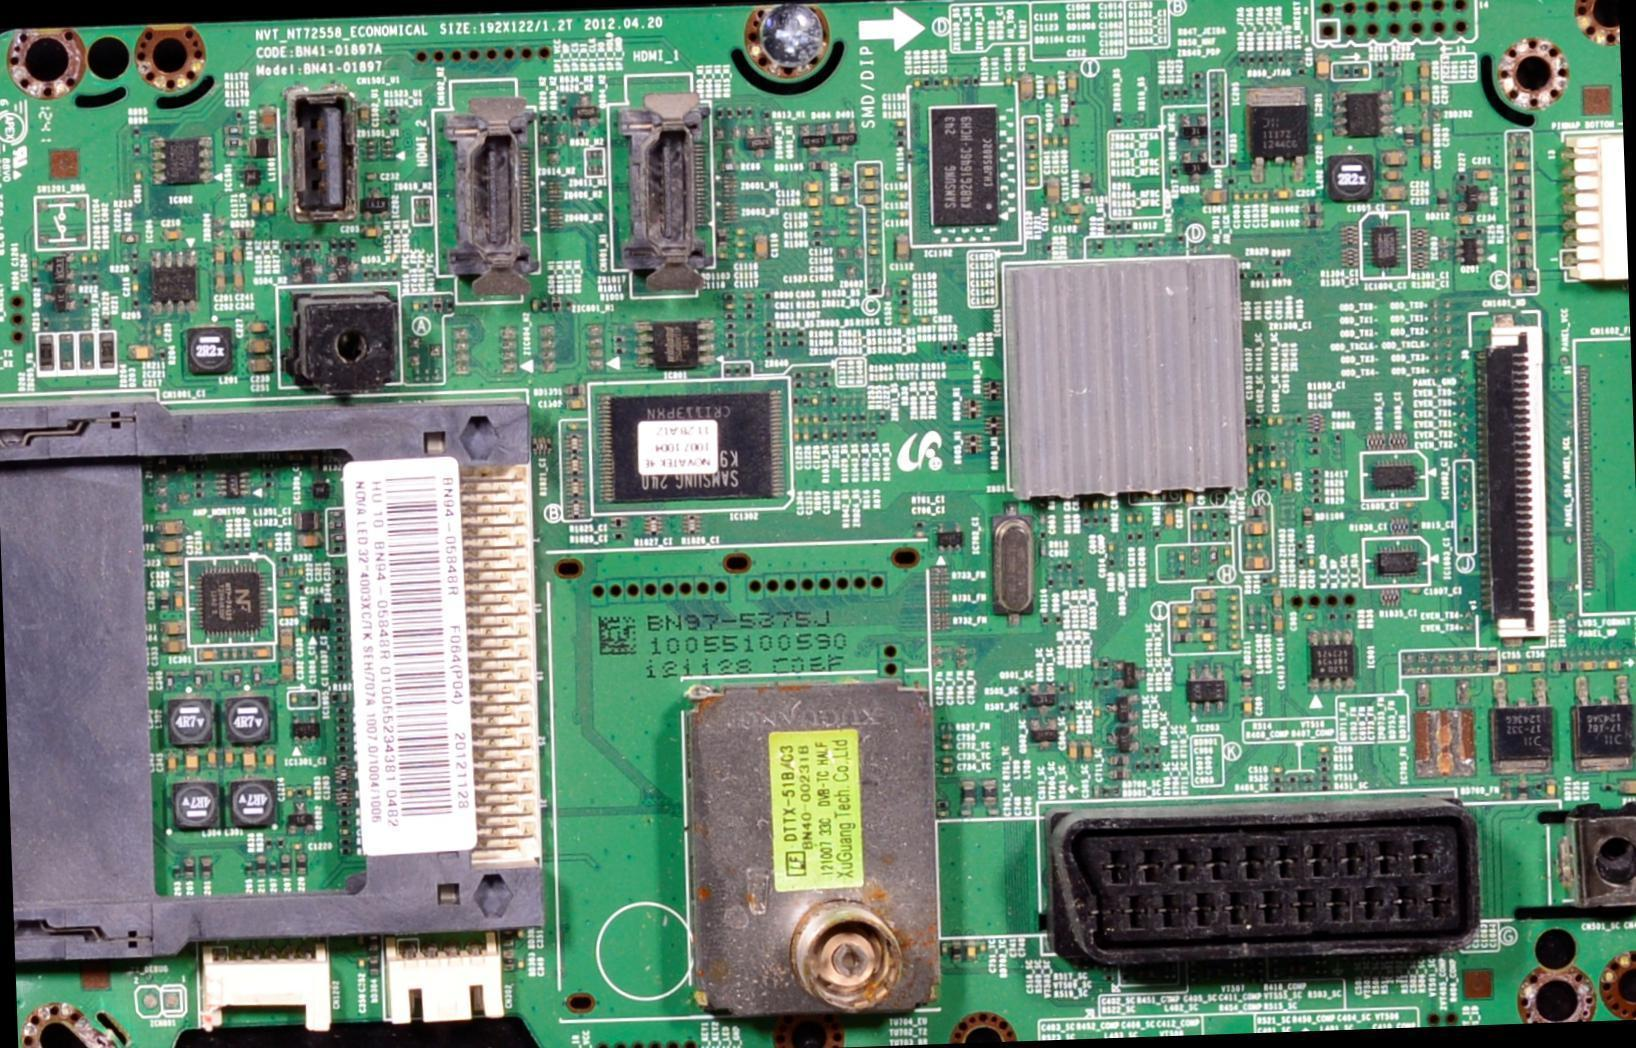Capacitor: (938, 726, 1002, 780), (1015, 63, 1090, 104), (1168, 584, 1241, 622), (928, 632, 982, 678), (1417, 56, 1435, 177), (953, 781, 1011, 817), (1240, 517, 1273, 573), (1376, 148, 1407, 205), (1201, 186, 1298, 204), (1066, 713, 1100, 763), (216, 238, 246, 291), (855, 162, 884, 209), (864, 206, 888, 261), (1501, 657, 1549, 682), (1243, 455, 1299, 475), (1578, 654, 1626, 676), (285, 807, 318, 838), (124, 337, 162, 364), (891, 230, 915, 272), (800, 177, 827, 211), (729, 227, 752, 263), (1267, 589, 1285, 637), (1447, 212, 1495, 229), (1023, 152, 1043, 190), (293, 506, 323, 530), (1091, 776, 1122, 800), (1224, 616, 1244, 652), (181, 743, 201, 778), (1612, 772, 1635, 803), (1122, 506, 1147, 533), (749, 231, 773, 260), (1278, 469, 1301, 498), (350, 100, 375, 127), (1107, 751, 1131, 778), (1536, 775, 1561, 800), (1312, 49, 1329, 83), (1062, 199, 1088, 223), (118, 275, 143, 299), (155, 518, 186, 537), (1023, 112, 1044, 139), (1043, 131, 1072, 151), (892, 210, 917, 233), (561, 392, 587, 414), (1189, 517, 1212, 541), (846, 206, 862, 239), (1398, 85, 1418, 111), (248, 643, 277, 661), (1506, 152, 1531, 172), (239, 745, 257, 771), (1045, 172, 1061, 201), (159, 620, 188, 637), (1509, 227, 1535, 245), (157, 539, 185, 555), (1265, 758, 1293, 775), (243, 195, 262, 219), (220, 745, 236, 771), (1093, 497, 1116, 516), (296, 531, 320, 548), (276, 604, 299, 622), (280, 653, 295, 683), (1242, 694, 1260, 718), (162, 639, 188, 655), (1510, 271, 1526, 294), (795, 413, 820, 428), (261, 748, 277, 772), (792, 425, 811, 445), (278, 581, 298, 600), (1197, 632, 1218, 651), (360, 222, 381, 240), (1173, 546, 1191, 567), (1161, 504, 1175, 533), (163, 226, 185, 242), (198, 648, 220, 664), (164, 667, 178, 691), (1269, 411, 1287, 429), (810, 209, 826, 228), (831, 192, 851, 208), (173, 590, 186, 613), (1473, 167, 1493, 181), (265, 193, 276, 219), (162, 555, 184, 569), (898, 306, 912, 326), (1222, 544, 1236, 563), (207, 745, 218, 770), (166, 747, 177, 773), (740, 288, 759, 302), (527, 294, 540, 314), (720, 301, 742, 311), (1303, 548, 1315, 568), (282, 634, 294, 651), (410, 295, 421, 315), (285, 782, 296, 802), (28, 258, 39, 275), (822, 426, 832, 445), (1314, 740, 1331, 752), (203, 538, 212, 556), (918, 314, 934, 324), (266, 536, 275, 553), (892, 174, 910, 182), (1360, 60, 1369, 77), (899, 277, 911, 288), (1105, 538, 1114, 553), (896, 191, 908, 202), (1049, 203, 1057, 220), (277, 563, 285, 577), (290, 564, 297, 581), (306, 785, 314, 801), (1178, 621, 1190, 629), (298, 565, 304, 581), (813, 393, 818, 412), (1247, 442, 1253, 457)
IC: (588, 365, 801, 516), (903, 78, 1026, 248), (1232, 76, 1321, 197), (1482, 677, 1561, 770), (1568, 674, 1635, 774), (621, 315, 720, 379), (1299, 617, 1378, 695), (1361, 533, 1446, 590), (1417, 702, 1481, 779), (1324, 87, 1401, 145), (1360, 446, 1427, 503), (1179, 664, 1235, 723), (189, 467, 273, 506), (1091, 645, 1143, 694), (1022, 715, 1068, 761), (1021, 674, 1063, 718), (287, 710, 326, 756), (568, 92, 605, 135), (1107, 716, 1145, 752), (932, 524, 968, 562), (358, 178, 392, 216), (1100, 689, 1142, 718), (306, 603, 333, 642), (241, 161, 264, 192)
Resistor: (1361, 212, 1407, 276), (280, 230, 361, 258), (1241, 251, 1294, 284), (1046, 557, 1092, 590), (1509, 171, 1533, 229), (1268, 773, 1336, 792), (1130, 743, 1169, 773), (828, 426, 883, 444), (1304, 467, 1328, 509), (840, 408, 889, 427), (1036, 606, 1074, 630), (1157, 79, 1193, 104), (720, 309, 741, 352), (779, 325, 808, 350), (1510, 242, 1536, 269), (1396, 121, 1419, 150), (1101, 217, 1134, 236), (762, 317, 776, 361), (1080, 512, 1112, 530), (1036, 517, 1050, 560), (1239, 659, 1257, 693), (1125, 529, 1163, 545), (425, 296, 454, 315), (542, 297, 571, 316), (1189, 68, 1207, 98), (1333, 425, 1347, 462), (1079, 170, 1098, 197), (1134, 236, 1157, 257), (1431, 189, 1451, 214), (793, 367, 813, 390), (540, 111, 567, 126), (1306, 435, 1325, 457), (1553, 656, 1574, 675), (250, 663, 266, 689), (198, 857, 214, 883), (1061, 110, 1084, 127), (562, 378, 586, 395), (1294, 540, 1308, 567), (230, 664, 244, 691), (1253, 474, 1275, 492), (166, 862, 184, 883), (1111, 105, 1128, 128), (1259, 441, 1285, 456), (792, 391, 811, 410), (817, 409, 835, 429), (812, 229, 829, 250), (1518, 778, 1532, 803), (1173, 629, 1196, 645), (824, 391, 842, 410), (296, 852, 310, 876), (279, 852, 292, 877), (183, 858, 196, 883), (818, 371, 834, 391), (1067, 695, 1087, 711), (715, 226, 730, 248), (1105, 551, 1117, 576), (158, 588, 170, 613), (256, 851, 268, 876), (99, 308, 112, 330), (191, 668, 204, 690), (897, 287, 912, 306), (1317, 753, 1332, 772), (1597, 780, 1612, 799), (743, 301, 757, 321), (1195, 618, 1219, 630), (131, 168, 146, 187), (239, 534, 253, 553), (1246, 413, 1264, 427), (1022, 141, 1041, 154), (1092, 239, 1106, 255), (31, 275, 43, 294), (255, 537, 267, 555), (1293, 410, 1305, 428), (80, 251, 90, 273), (297, 782, 306, 804), (720, 289, 737, 301), (1451, 167, 1463, 182), (761, 290, 774, 303), (41, 313, 49, 331), (244, 860, 253, 878), (130, 246, 140, 261), (132, 300, 141, 317), (223, 536, 230, 555), (233, 537, 240, 553), (130, 262, 140, 273), (812, 429, 818, 444)
